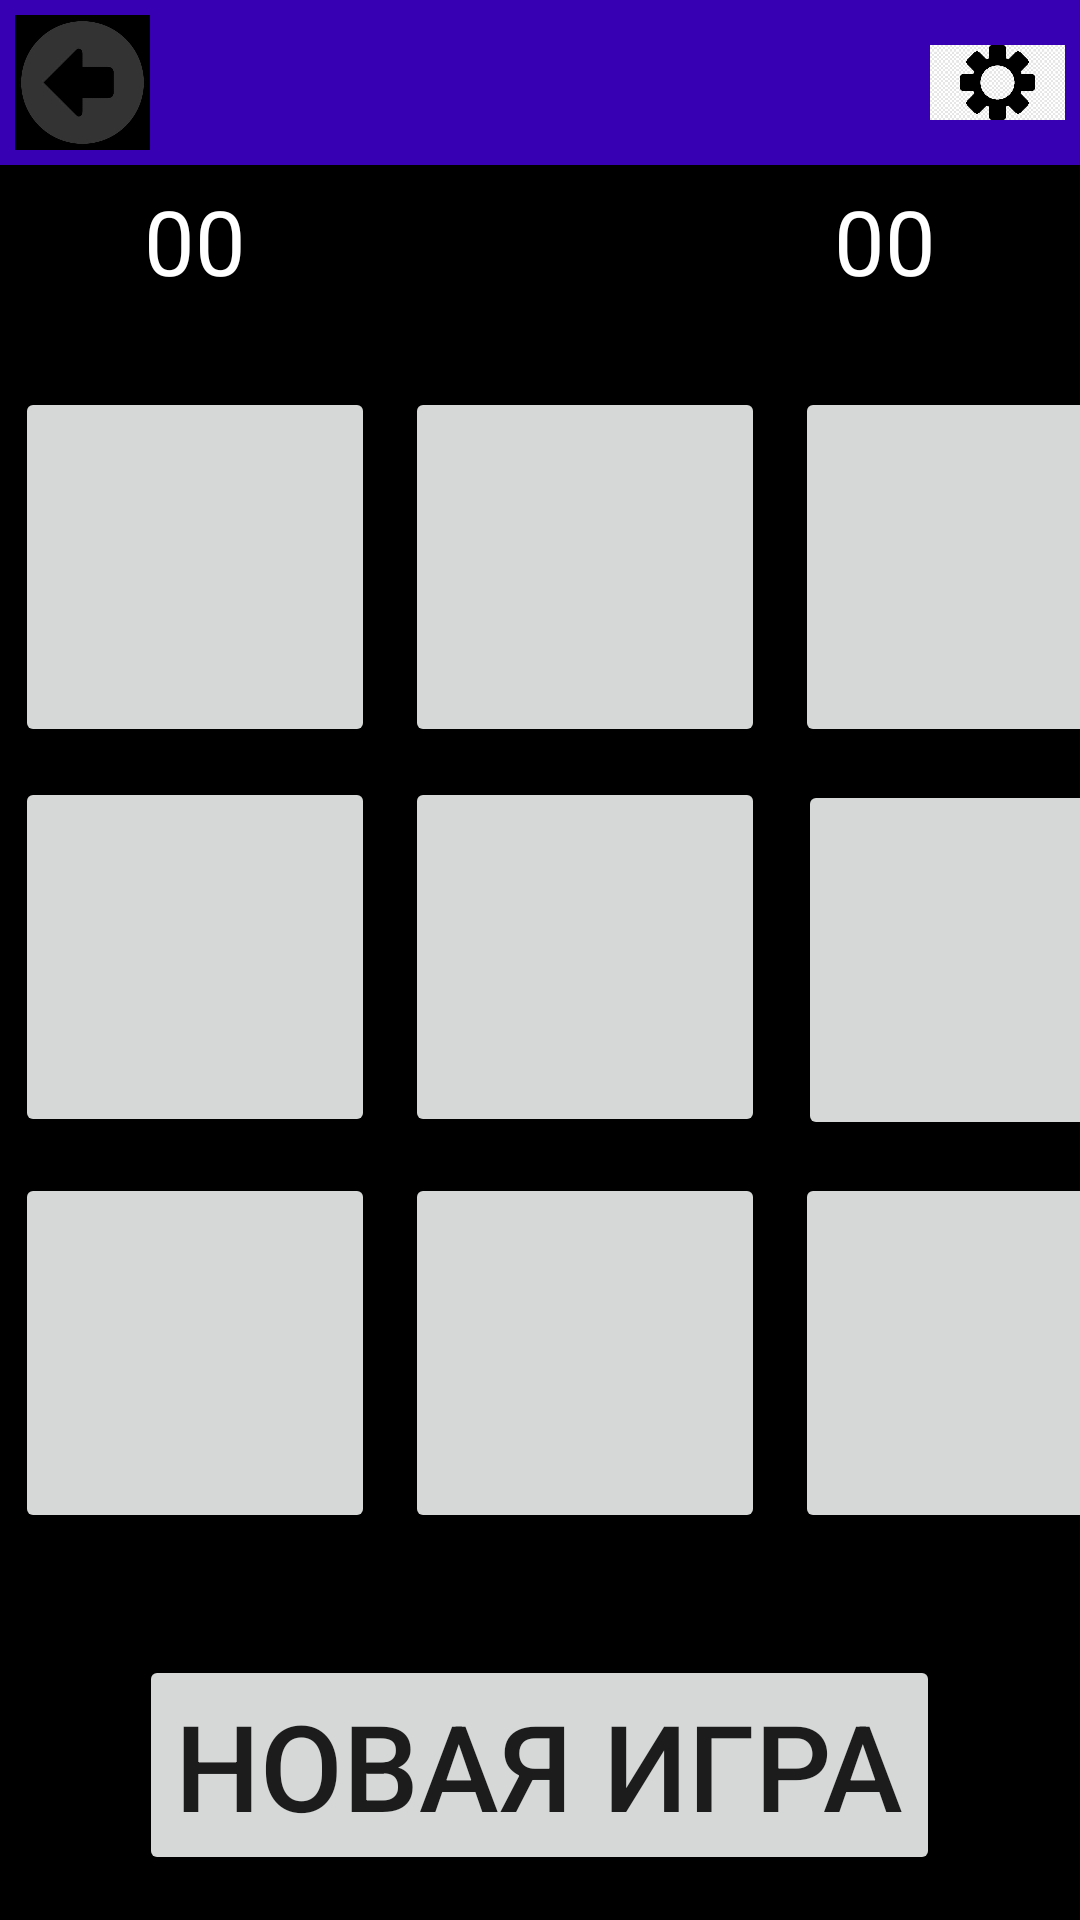

Named icons in this screenshot (1080px×1920px) and their centers, (x=x, y=y):
arrow circle left: (x=82, y=82)
settings: (x=997, y=82)
